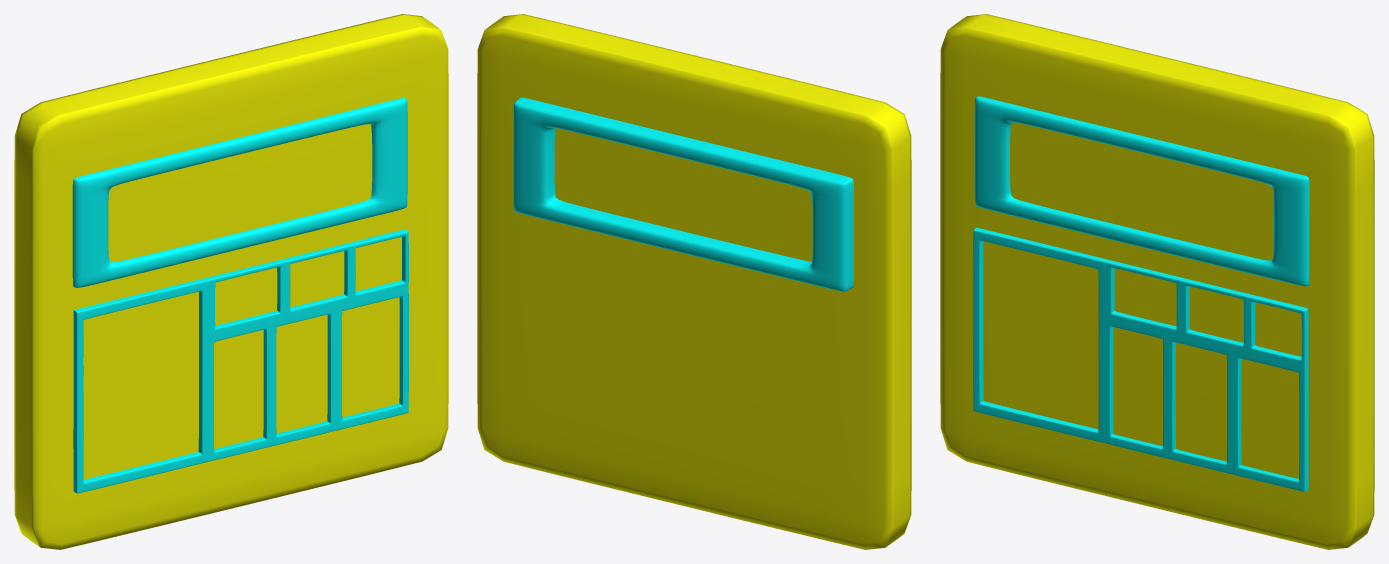
3 renders of one model, left to right at view 1: azimuth 30°, elevation 25°; view 2: azimuth 150°, elevation 25°; view 3: azimuth 330°, elevation 25°, orthographic.
Visible parts, largest first — view 1: polySurface1035; view 2: polySurface1035; view 3: polySurface1035.
Part boxes in pixels (left/top/right/bottom): polySurface1035: left=14, top=14, right=448, bottom=549; polySurface1035: left=477, top=14, right=911, bottom=549; polySurface1035: left=940, top=14, right=1374, bottom=549.
Size of the model in its own units: 0.9994 by 0.9994 by 0.1498.
